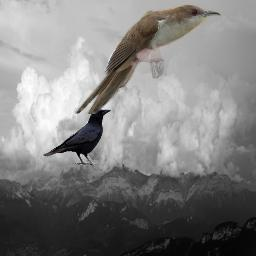Crow: (43, 109, 111, 165)
Cuckoo: (75, 4, 221, 114)
